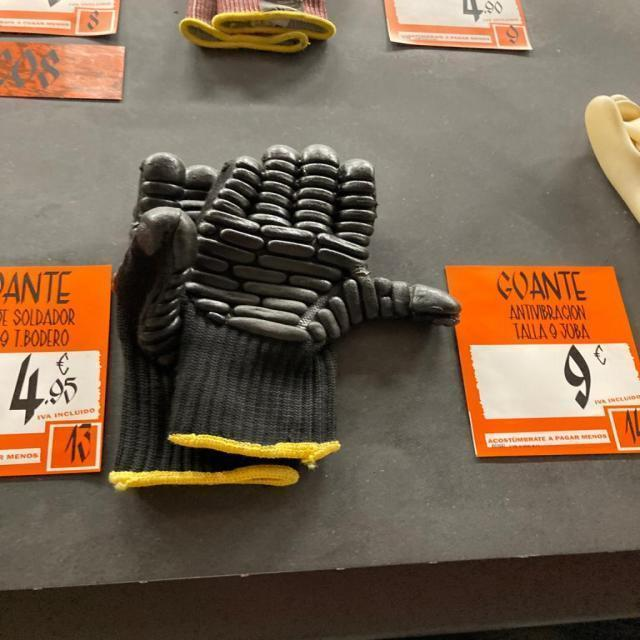gloves: (108, 141, 455, 500)
